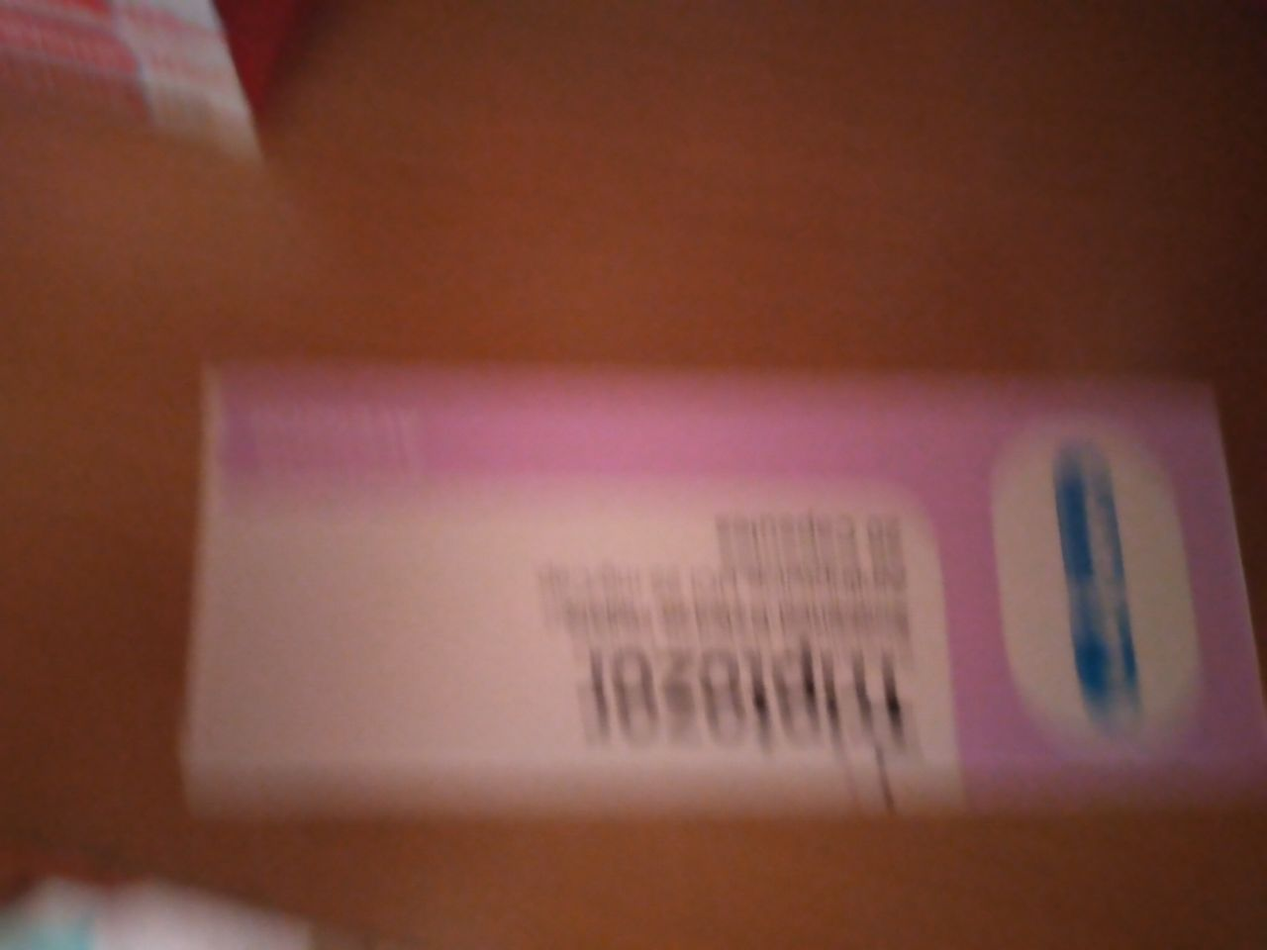Medicine: (158, 339, 1267, 846)
